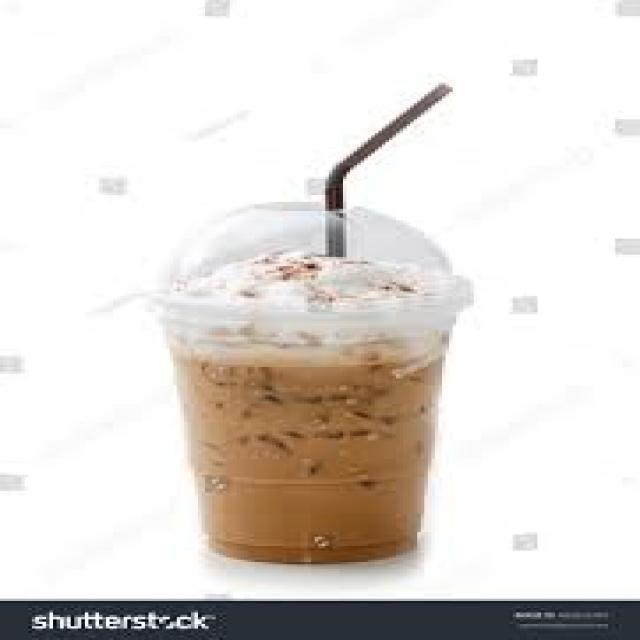bottle: (172, 330, 447, 562)
